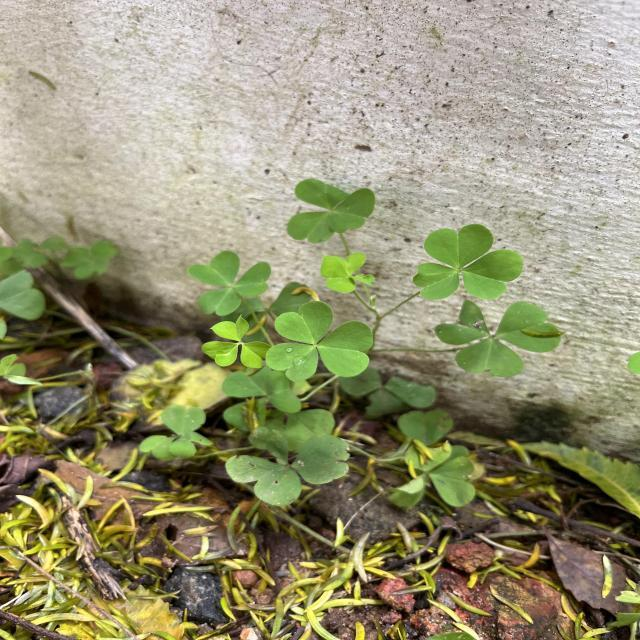Oxalis corniculata: (224, 425, 352, 507), (434, 299, 562, 378), (264, 300, 374, 382), (412, 222, 524, 301), (286, 178, 378, 244), (186, 250, 272, 317), (200, 313, 274, 370), (319, 252, 376, 294)
